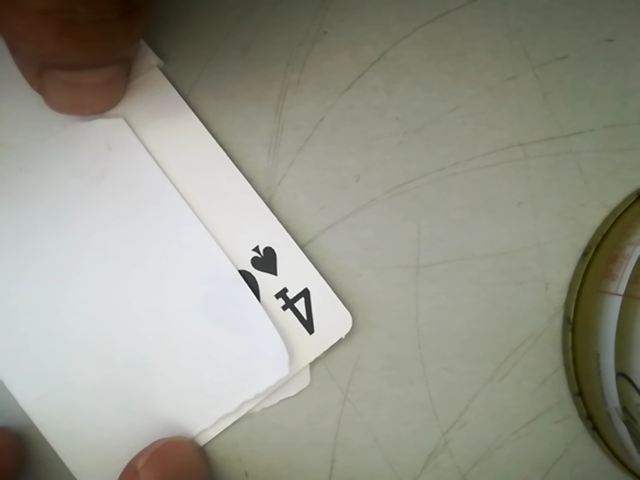ht 4: (231, 228, 331, 352)
